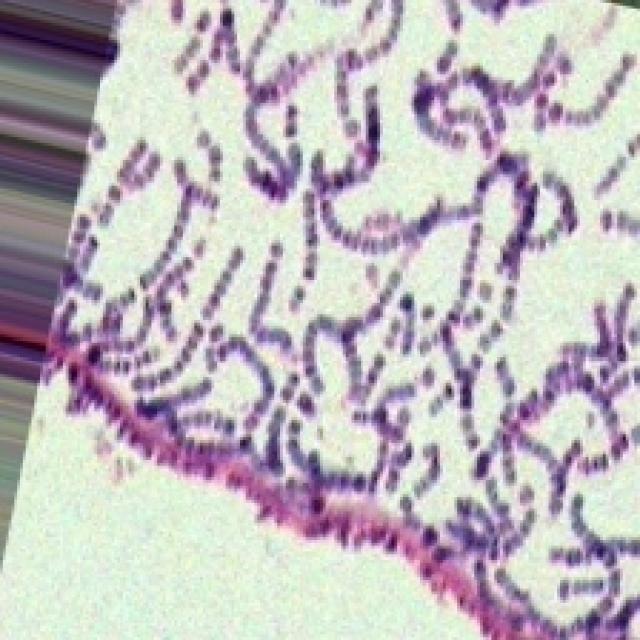Spherical_bacteria: (37, 0, 637, 637)
